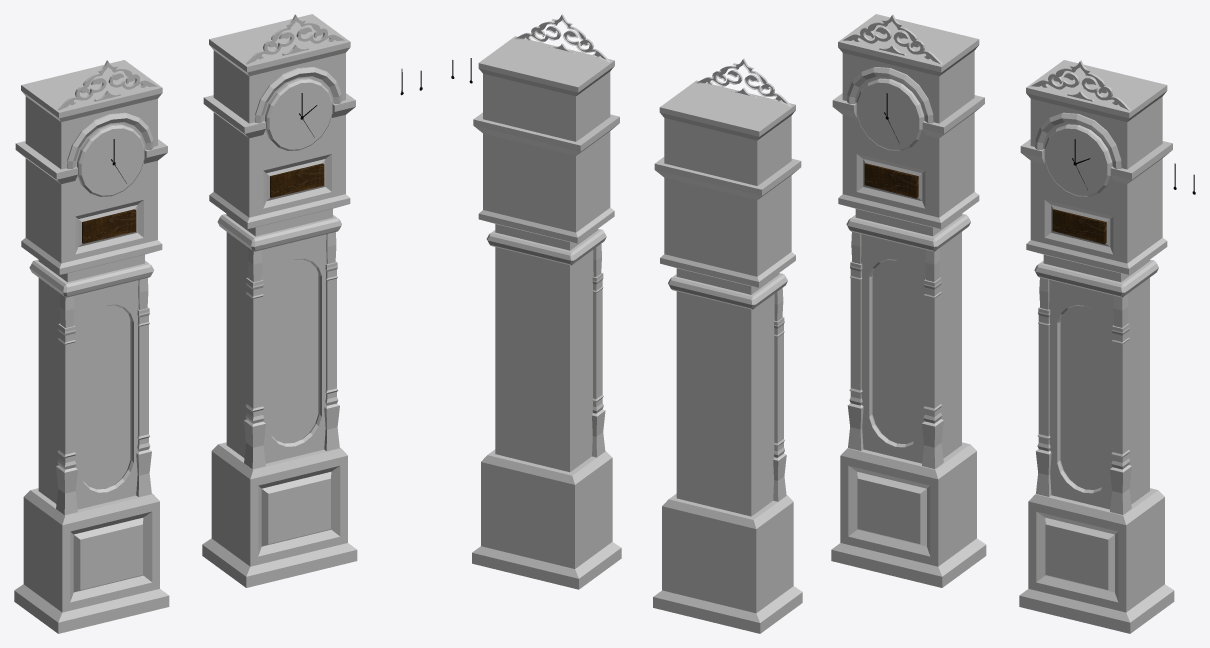
Rendered from Meurelogio.fbx.
3 renders of one model, left to right at view 1: azimuth 30°, elevation 25°; view 2: azimuth 150°, elevation 25°; view 3: azimuth 330°, elevation 25°, orthographic. The views are drawn at different scales.
Visible parts, largest first — view 1: defaultMaterial.002, defaultMaterial.001, clock_face.001, clock_face, Cube.001, Cube; view 2: defaultMaterial.002, defaultMaterial.001; view 3: defaultMaterial.001, defaultMaterial.002, clock_face.001, clock_face, Cube, Cube.001.
Boxes of the visible parts, box(x1,y1,x2,y2) form: defaultMaterial.002: box(14, 60, 169, 633); defaultMaterial.001: box(202, 14, 357, 587); clock_face.001: box(82, 129, 143, 195); clock_face: box(270, 83, 331, 149); Cube.001: box(82, 209, 136, 243); Cube: box(270, 163, 324, 197); defaultMaterial.002: box(653, 58, 802, 633); defaultMaterial.001: box(472, 14, 621, 589); defaultMaterial.001: box(1019, 60, 1174, 633); defaultMaterial.002: box(831, 14, 986, 587); clock_face.001: box(857, 83, 918, 149); clock_face: box(1045, 129, 1106, 195); Cube: box(1052, 209, 1106, 244); Cube.001: box(864, 163, 918, 198).
Size of the model in its own units: 137 by 200 by 28.8.
